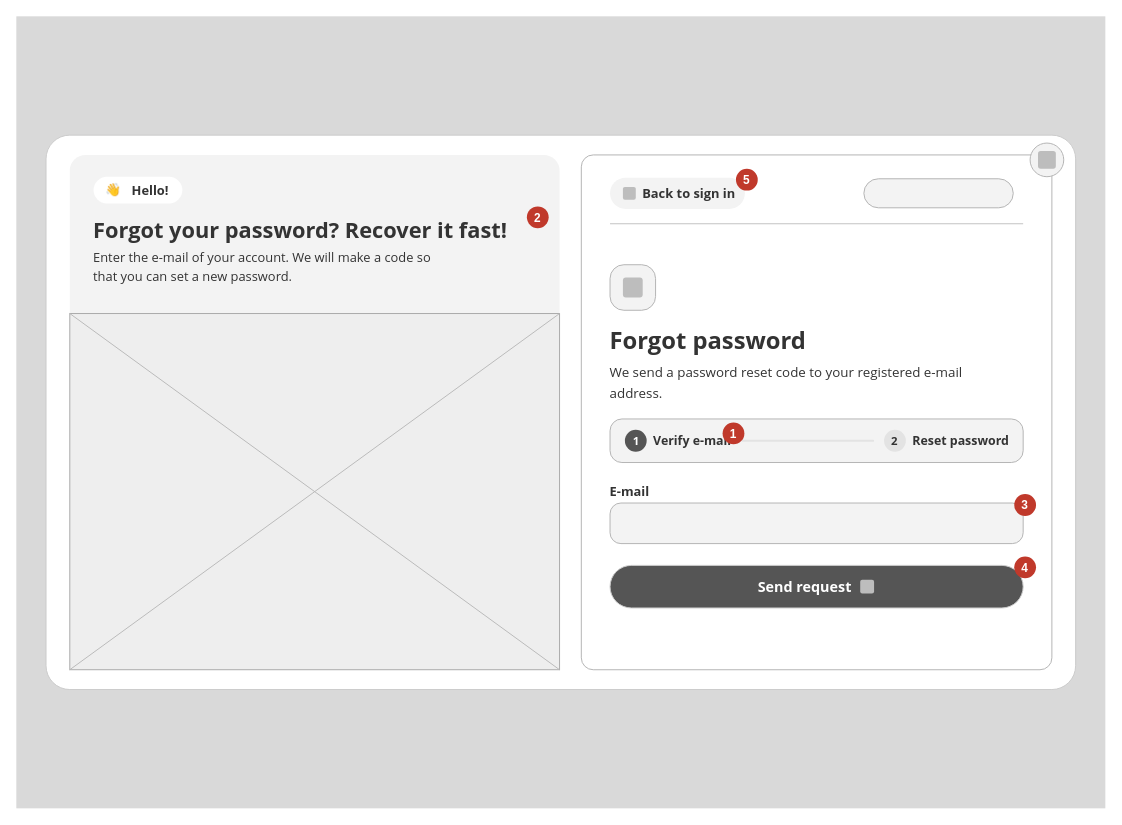
Some shapes in this 1122 by 825 pixel diagram are drawn without their labels. Each missing label, with the centre of its shape:
"Enter your e-mail" belongs at (x=816, y=523).
"Step 1/2 · Verify e-mail" belongs at (x=938, y=193).
